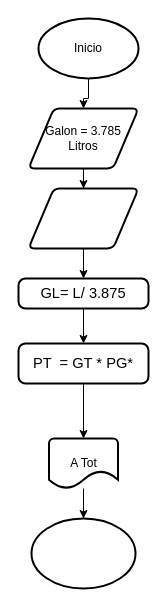
The diagram is 166 pixels wide and 606 high, and some of its shapes have lost their labels. Here are the shapes that lost their labels. From the top down, the box of each, then its label:
(27, 187, 139, 249): Litros
(30, 517, 136, 589): Fin
